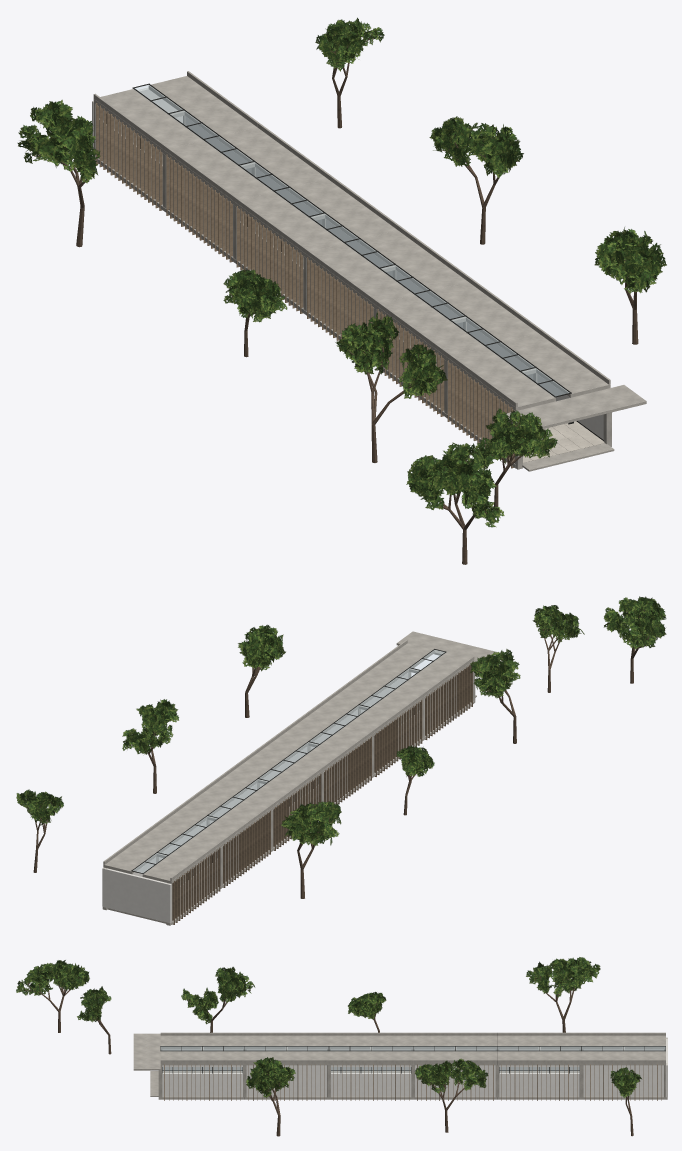
The model's file is gallery.glb.
3 views of the same model, one above another, from view 1: azimuth 30°, elevation 25°; view 2: azimuth 150°, elevation 25°; view 3: azimuth 270°, elevation 25° (orthographic). The views are drawn at different scales.
Parts seen in each view (by area): view 1: site_tree_7_mesh, site_tree_1_mesh, site_tree_5_mesh, site_tree_4_mesh, seg4_wall_L_mesh, seg5_wall_L_mesh, seg3_wall_L_mesh, site_tree_2_mesh, seg0_roof_R_mesh, seg2_roof_R_mesh, seg5_roof_R_mesh, seg1_roof_R_mesh (+23 smaller); view 2: seg5_back_mesh, site_tree_7_mesh, site_tree_5_mesh, seg5_wall_L_mesh, seg0_wall_L_mesh, seg4_wall_L_mesh, site_tree_4_mesh, seg1_wall_L_mesh, seg2_wall_L_mesh, site_tree_1_mesh, seg5_roof_R_mesh, site_tree_2_mesh (+22 smaller); view 3: seg0_wall_R_mesh, seg2_wall_R_mesh, seg4_wall_R_mesh, seg5_wall_R_mesh, site_tree_5_mesh, site_tree_7_mesh, site_tree_4_mesh, site_tree_1_mesh, seg1_wall_R_mesh, seg4_roof_L_mesh, seg0_roof_L_mesh, seg3_roof_L_mesh (+30 smaller).
Part boxes in pixels (<box>): site_tree_7_mesh: <box>406,442,504,564</box>; site_tree_1_mesh: <box>335,311,447,462</box>; site_tree_5_mesh: <box>17,99,100,247</box>; site_tree_4_mesh: <box>429,116,523,244</box>; seg4_wall_L_mesh: <box>166,154,233,262</box>; seg5_wall_L_mesh: <box>96,103,162,210</box>; seg3_wall_L_mesh: <box>236,206,303,313</box>; site_tree_2_mesh: <box>594,227,666,344</box>; seg0_roof_R_mesh: <box>500,328,610,397</box>; seg2_roof_R_mesh: <box>359,225,469,294</box>; seg5_roof_R_mesh: <box>148,71,258,140</box>; seg1_roof_R_mesh: <box>430,277,539,345</box>; seg5_back_mesh: <box>102,867,171,923</box>; site_tree_7_mesh: <box>604,596,666,683</box>; site_tree_5_mesh: <box>281,801,341,898</box>; seg5_wall_L_mesh: <box>172,847,220,924</box>; seg0_wall_L_mesh: <box>424,664,472,739</box>; seg4_wall_L_mesh: <box>223,810,270,887</box>; site_tree_4_mesh: <box>122,699,178,793</box>; seg1_wall_L_mesh: <box>374,699,422,776</box>; seg2_wall_L_mesh: <box>324,736,371,806</box>; site_tree_1_mesh: <box>470,649,520,743</box>; seg5_roof_R_mesh: <box>103,824,182,874</box>; site_tree_2_mesh: <box>238,624,285,717</box>; seg0_wall_R_mesh: <box>162,1064,242,1100</box>; seg2_wall_R_mesh: <box>331,1064,411,1100</box>; seg4_wall_R_mesh: <box>499,1064,579,1100</box>; seg5_wall_R_mesh: <box>583,1064,663,1100</box>; site_tree_5_mesh: <box>526,957,600,1032</box>; site_tree_7_mesh: <box>16,960,89,1032</box>; site_tree_4_mesh: <box>415,1058,488,1132</box>; site_tree_1_mesh: <box>181,966,255,1032</box>; seg1_wall_R_mesh: <box>246,1064,326,1100</box>; seg4_roof_L_mesh: <box>497,1032,581,1049</box>; seg0_roof_L_mesh: <box>160,1032,244,1049</box>; seg3_roof_L_mesh: <box>413,1032,497,1049</box>.
Bounding box in the file's own units: 36.22 × 11.07 × 77.64.
9 materials, 6 textured.
